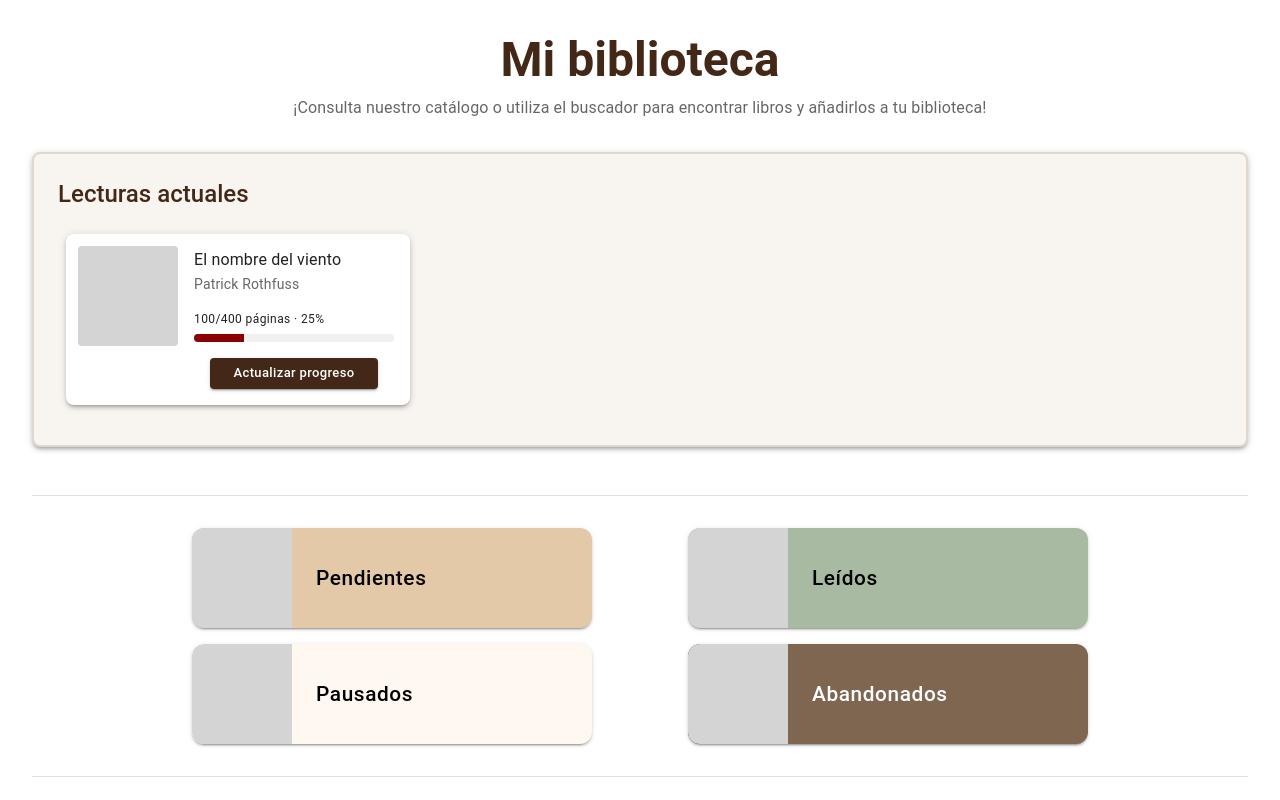
Test: Biblioteca personal › mueve el libro a "leídos" cuando se completa al 100%
Expected: the heading "El nombre del viento" is shown, [194,250,341,269]
Click the button "Actualizar progreso" at [294, 374], box [210,358,378,389]
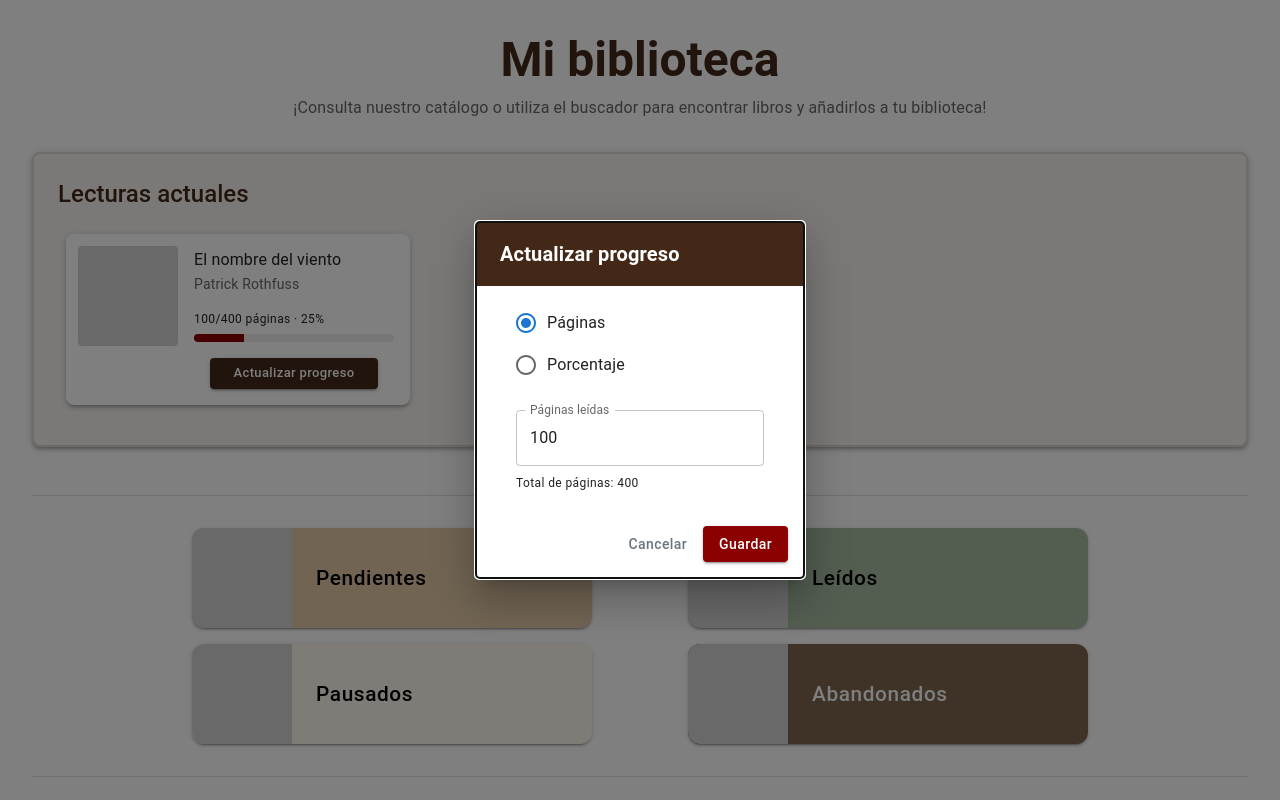
Expected: the dialog is shown, [476,222,804,578]
Replace the text in the field labelled "Páginas leídas" with "400" at [640, 438], box [516,410,764,466]
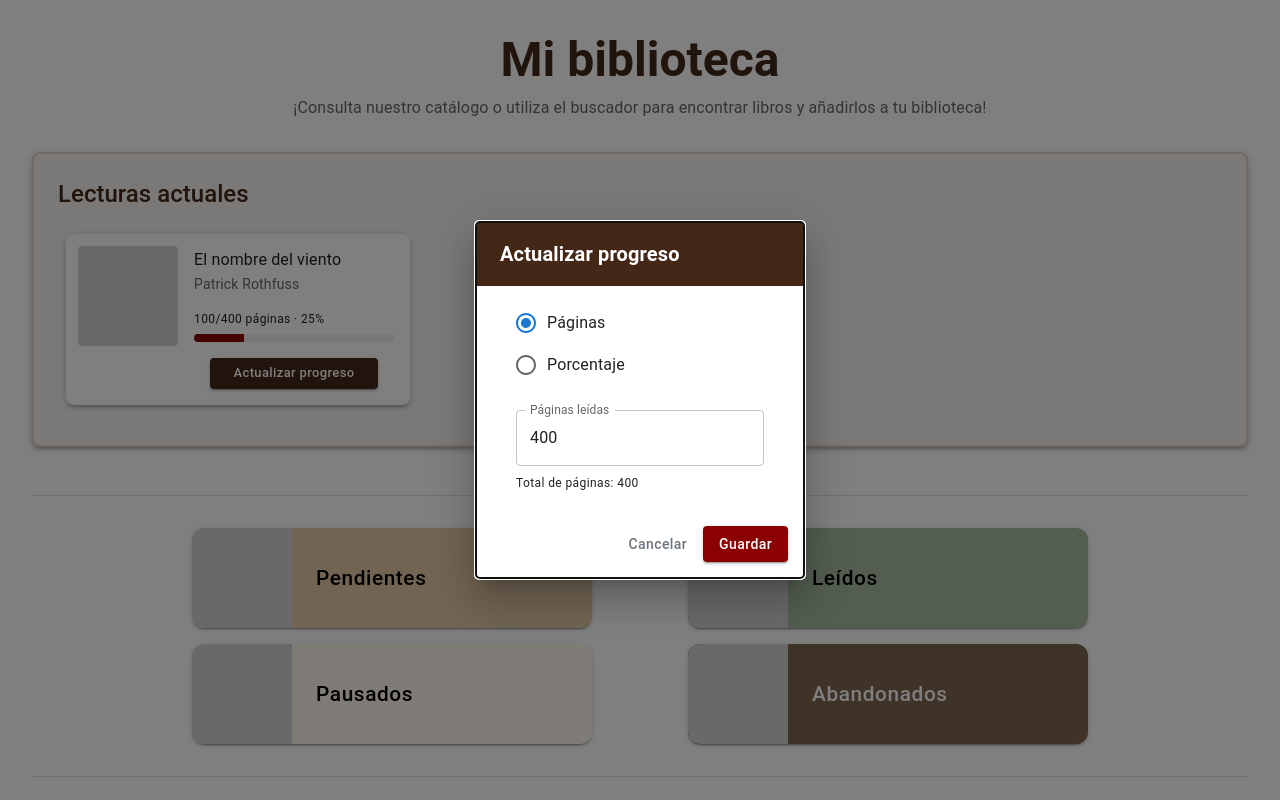
Click the button "Guardar" at [746, 544], box [703,526,788,562]
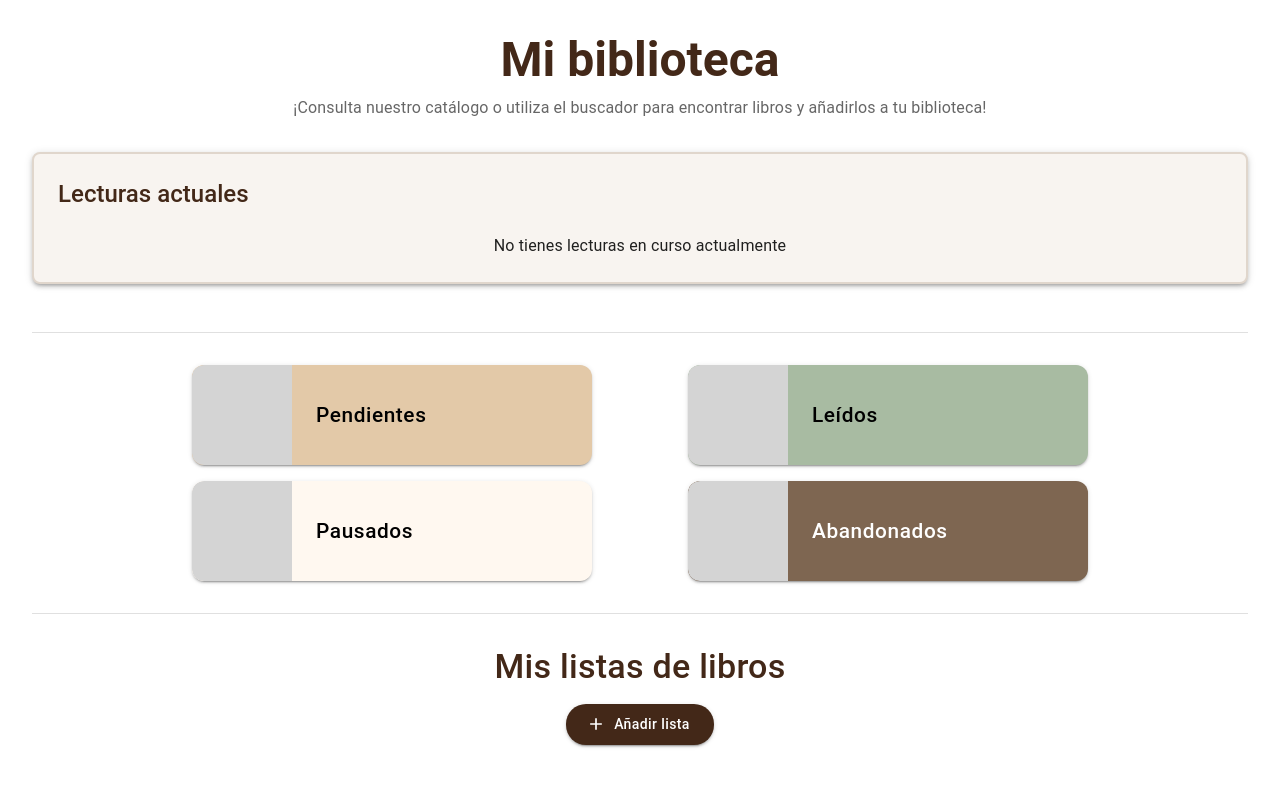
Expected: the heading "El nombre del viento" is gone
